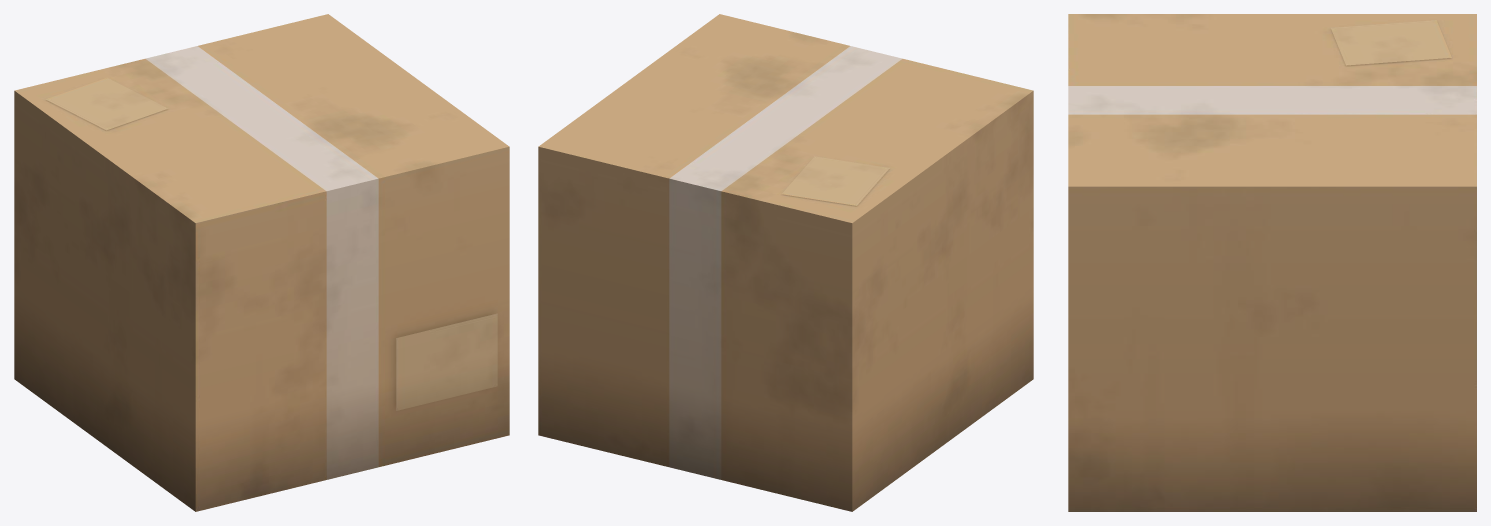
The picture shows the model from 3 angles, left to right: view 1: azimuth 30°, elevation 25°; view 2: azimuth 150°, elevation 25°; view 3: azimuth 270°, elevation 25°; orthographic projection. The views are drawn at different scales.
Parts seen in each view (by area): view 1: box_A; view 2: box_A; view 3: box_A.
Part boxes in pixels (x1,y1,x2,y2): box_A: (14,14,509,511); box_A: (538,14,1033,511); box_A: (1068,14,1476,511).
Bounding box in the file's own units: 0.2 × 0.1764 × 0.2031.
Materials: 1 (1 with a texture image).
